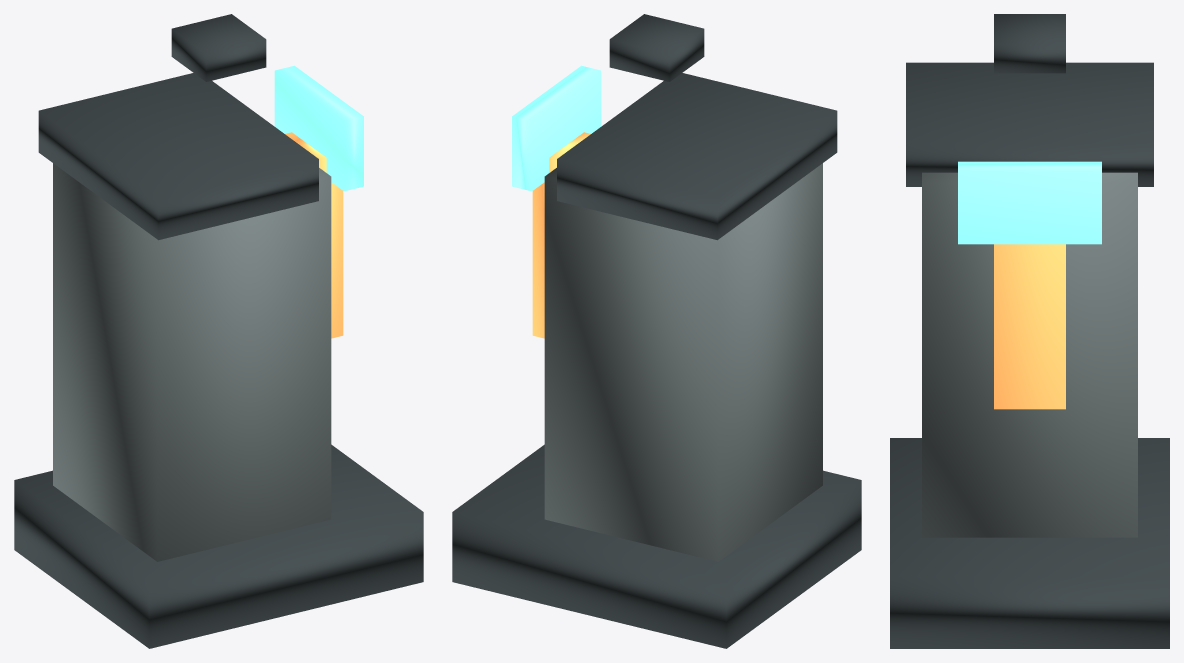
Rendered from spin-habitat-spin-bus-isolator-lod1.glb.
3 views of the same model, side by side, from view 1: azimuth 30°, elevation 25°; view 2: azimuth 150°, elevation 25°; view 3: azimuth 270°, elevation 25° (orthographic). The views are drawn at different scales.
Visible parts, largest first — view 1: spin-habitat-spin-bus-isolator-housing, spin-habitat-spin-bus-isolator-base, spin-habitat-spin-bus-isolator-brace, spin-habitat-interactable-status, objective-beacon-mount, spin-habitat-spin-bus-isolator-knife; view 2: spin-habitat-spin-bus-isolator-housing, spin-habitat-spin-bus-isolator-base, spin-habitat-spin-bus-isolator-brace, spin-habitat-interactable-status, objective-beacon-mount, spin-habitat-spin-bus-isolator-knife; view 3: spin-habitat-spin-bus-isolator-housing, spin-habitat-spin-bus-isolator-base, spin-habitat-spin-bus-isolator-brace, spin-habitat-interactable-status, spin-habitat-spin-bus-isolator-knife, objective-beacon-mount.
Part boxes in pixels (bbox=[...]): spin-habitat-spin-bus-isolator-housing: bbox=[53, 163, 331, 561]; spin-habitat-spin-bus-isolator-base: bbox=[14, 444, 423, 648]; spin-habitat-spin-bus-isolator-brace: bbox=[38, 73, 318, 240]; spin-habitat-interactable-status: bbox=[274, 65, 363, 191]; objective-beacon-mount: bbox=[171, 14, 266, 81]; spin-habitat-spin-bus-isolator-knife: bbox=[285, 132, 343, 338]; spin-habitat-spin-bus-isolator-housing: bbox=[544, 163, 822, 561]; spin-habitat-spin-bus-isolator-base: bbox=[452, 444, 861, 648]; spin-habitat-spin-bus-isolator-brace: bbox=[557, 73, 837, 240]; spin-habitat-interactable-status: bbox=[512, 65, 601, 191]; objective-beacon-mount: bbox=[609, 14, 704, 81]; spin-habitat-spin-bus-isolator-knife: bbox=[532, 132, 590, 338]; spin-habitat-spin-bus-isolator-housing: bbox=[922, 172, 1137, 537]; spin-habitat-spin-bus-isolator-base: bbox=[890, 438, 1169, 648]; spin-habitat-spin-bus-isolator-brace: bbox=[906, 62, 1153, 186]; spin-habitat-interactable-status: bbox=[958, 161, 1101, 244]; spin-habitat-spin-bus-isolator-knife: bbox=[994, 244, 1065, 409]; objective-beacon-mount: bbox=[994, 14, 1065, 73].
Bounding box in the file's own units: 0.82 × 1.52 × 0.7.
